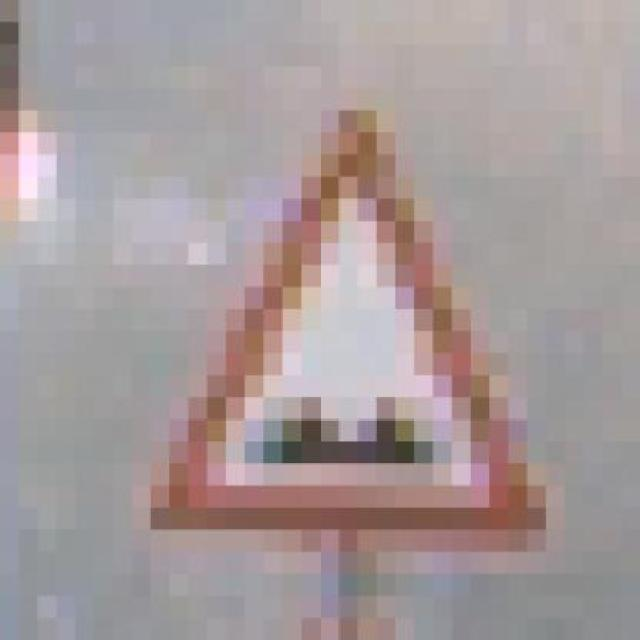Uneven Road: (132, 89, 546, 552)
